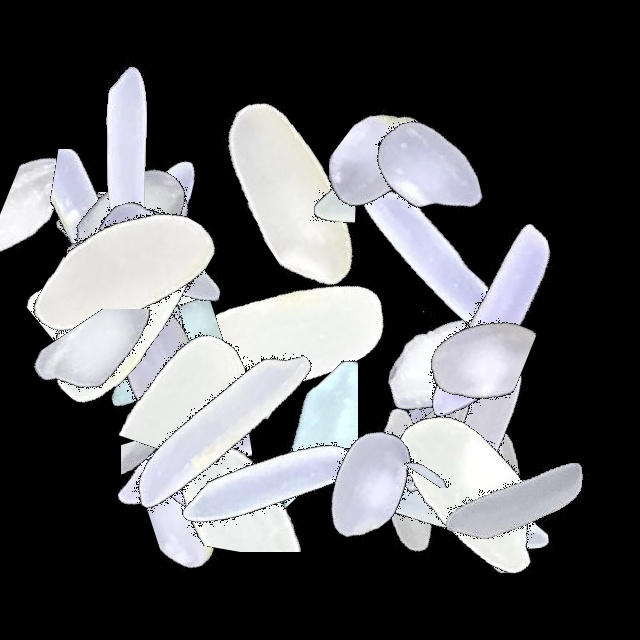Broken: (317, 382, 567, 555), (77, 298, 327, 470), (0, 212, 250, 380), (15, 275, 265, 443), (320, 261, 570, 424), (329, 60, 492, 310), (92, 333, 252, 583), (147, 371, 304, 621), (0, 149, 250, 305), (69, 308, 319, 457), (0, 309, 250, 457), (395, 350, 538, 600), (121, 410, 371, 552), (224, 286, 358, 536), (140, 275, 267, 525), (0, 101, 121, 351), (18, 192, 268, 306), (121, 356, 221, 606), (389, 432, 639, 529), (188, 149, 438, 235), (423, 162, 508, 412), (403, 390, 487, 640), (347, 419, 597, 501), (327, 411, 577, 488)
Full: (165, 72, 415, 322), (320, 324, 570, 574), (0, 116, 250, 366), (0, 101, 250, 351), (164, 209, 414, 459), (25, 136, 275, 386), (325, 242, 575, 492), (0, 103, 250, 353), (38, 243, 288, 493), (0, 34, 250, 284), (0, 165, 250, 415), (19, 123, 269, 373), (362, 377, 612, 627), (310, 134, 560, 384), (332, 390, 582, 640), (72, 340, 322, 590), (0, 186, 250, 436), (146, 364, 396, 614), (357, 309, 607, 559), (363, 195, 613, 445), (0, 149, 250, 399), (344, 365, 594, 615), (242, 360, 492, 610), (303, 43, 553, 293), (390, 374, 640, 624), (97, 303, 347, 553)
